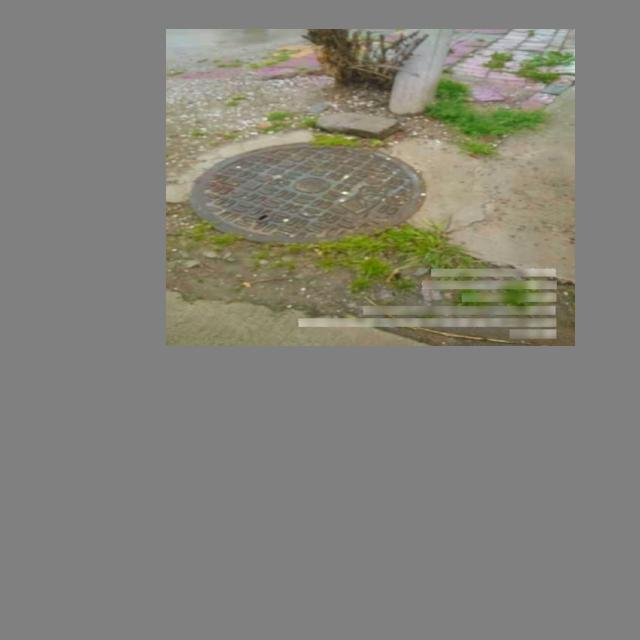good: (190, 142, 427, 244)
